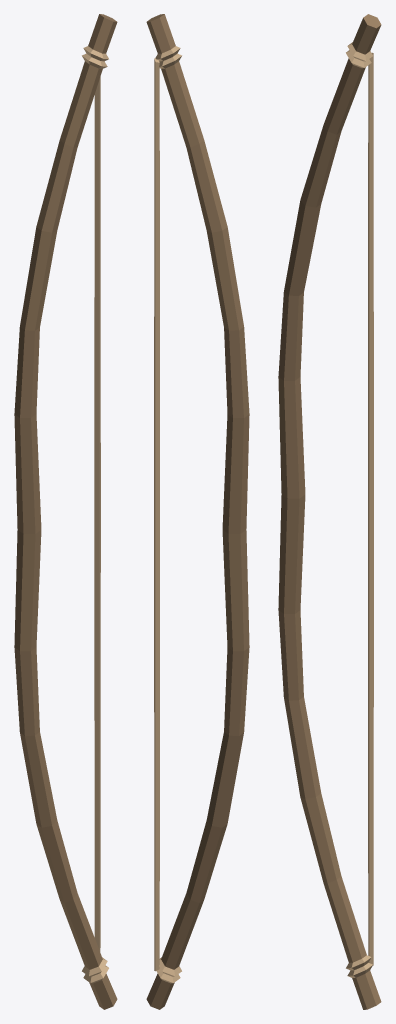
File: SM_pwe_medieval_bow_02.fbx
The picture shows the model from 3 angles, left to right: view 1: azimuth 30°, elevation 25°; view 2: azimuth 150°, elevation 25°; view 3: azimuth 330°, elevation 25°; orthographic projection.
Parts seen in each view (by area): view 1: SM_pwe_medieval_bow_02; view 2: SM_pwe_medieval_bow_02; view 3: SM_pwe_medieval_bow_02.
Part boxes in pixels (left/top/right/bottom): SM_pwe_medieval_bow_02: left=14, top=14, right=117, bottom=1009; SM_pwe_medieval_bow_02: left=146, top=14, right=249, bottom=1009; SM_pwe_medieval_bow_02: left=278, top=14, right=381, bottom=1009.
Size of the model in its own units: 9.8 by 94.99 by 2.48.
